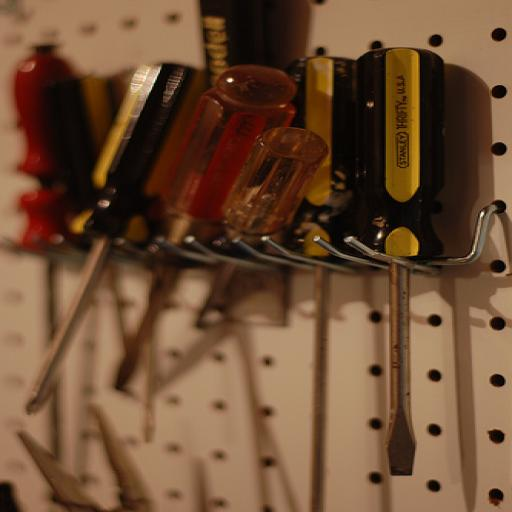screwdriver: (358, 46, 440, 476)
